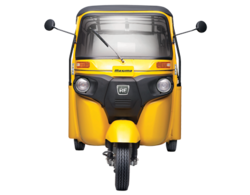auto: (42, 5, 211, 193)
